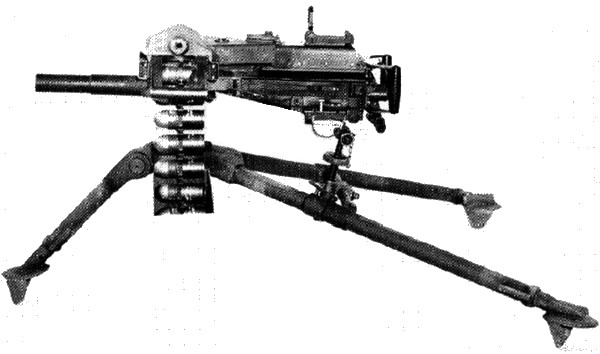rifle: (10, 5, 582, 342)
